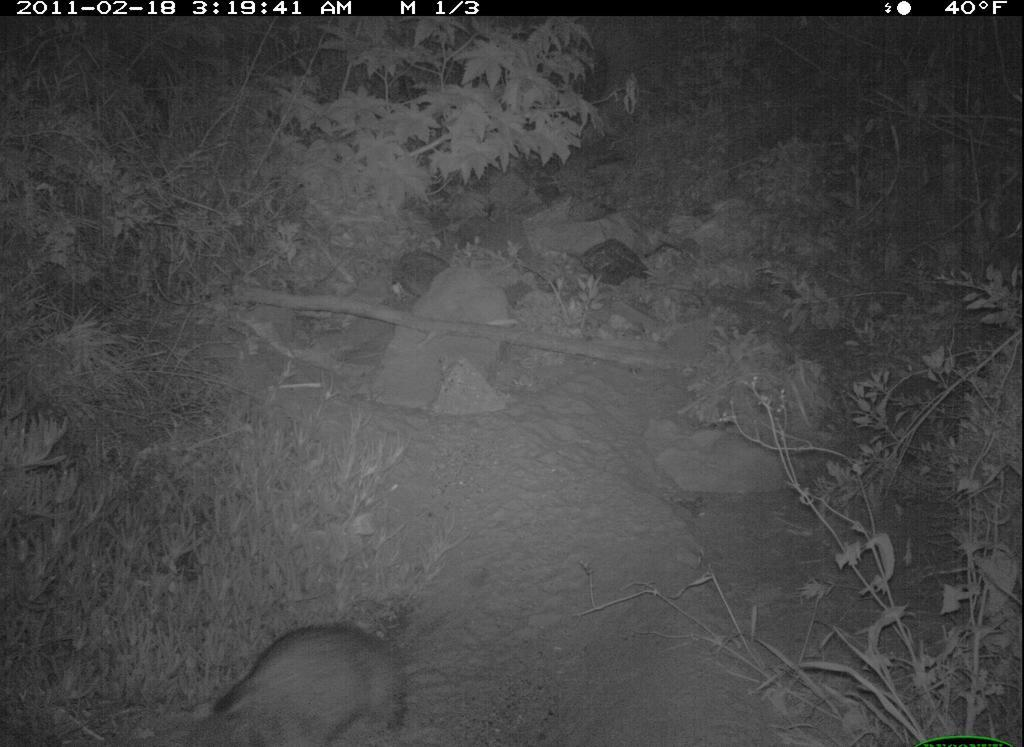raccoon: (207, 602, 427, 745)
